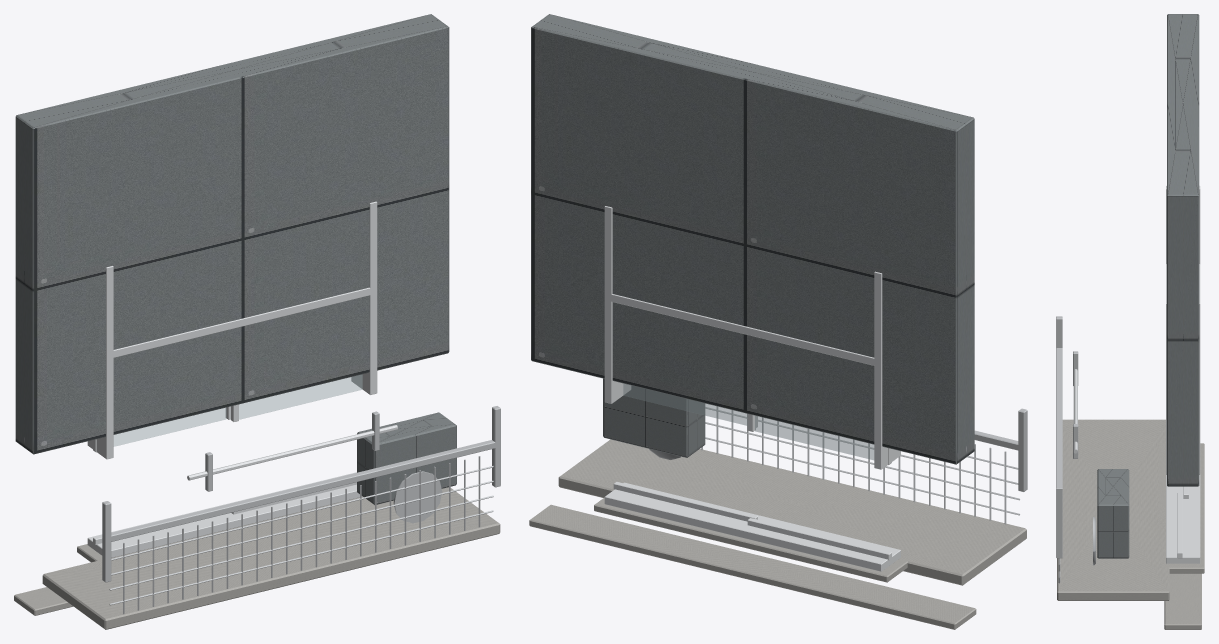
File: japanese-school-and-city-street-upper-floor-wall-balco-deff4269__30059.glb
3 views of the same model, side by side, from view 1: azimuth 30°, elevation 25°; view 2: azimuth 150°, elevation 25°; view 3: azimuth 270°, elevation 25° (orthographic). The views are drawn at different scales.
Parts seen in each view (by area): view 1: upper-floor-wall-balcony; view 2: upper-floor-wall-balcony; view 3: upper-floor-wall-balcony.
Part boxes in pixels (x1,y1,x2,y2): upper-floor-wall-balcony: (14,14,500,629); upper-floor-wall-balcony: (529,14,1027,629); upper-floor-wall-balcony: (1056,14,1204,629).
Size of the model in its own units: 4 by 4.47 by 1.38.
5 materials, 2 textured.
